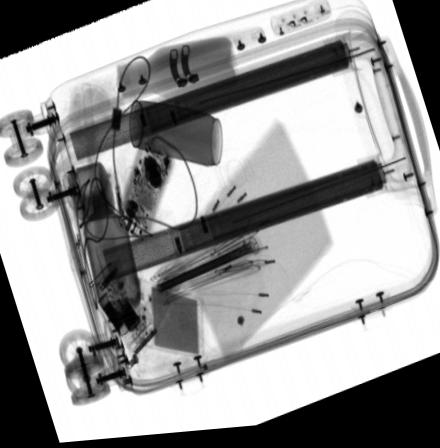Powerbank: (128, 278, 201, 360)
